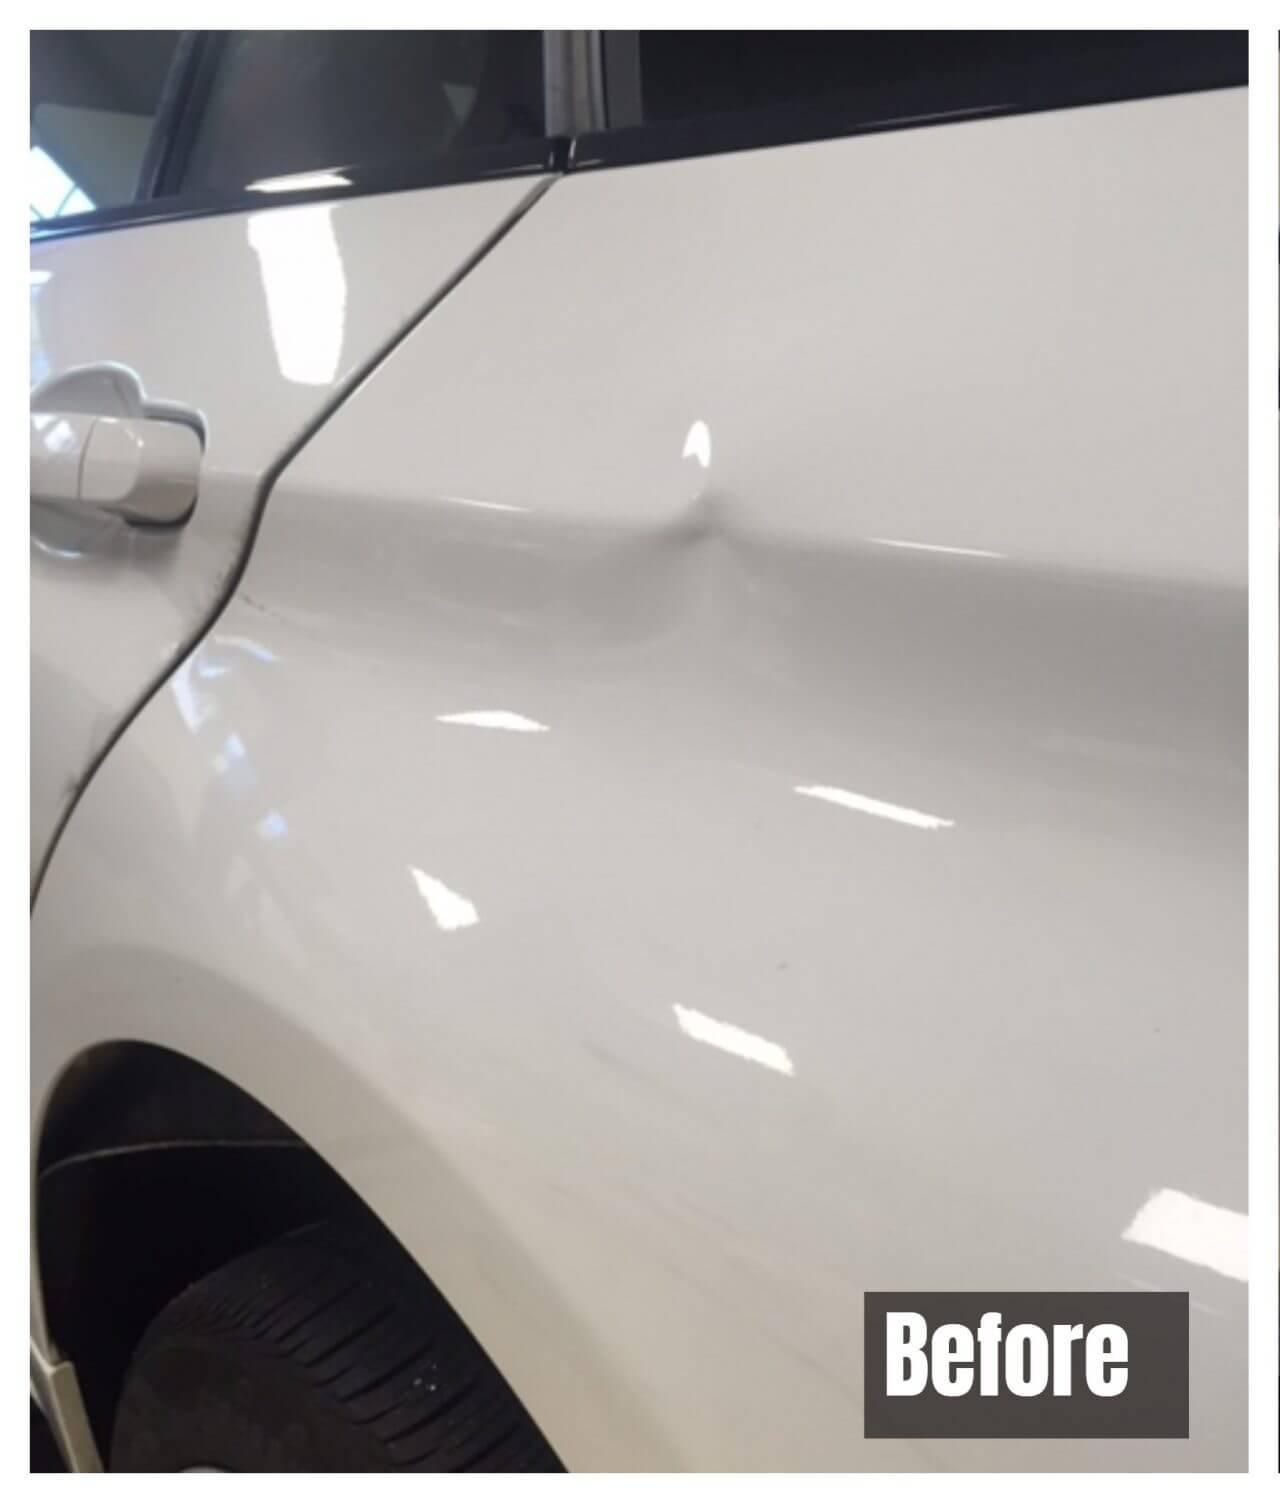dent: (555, 437, 928, 792)
